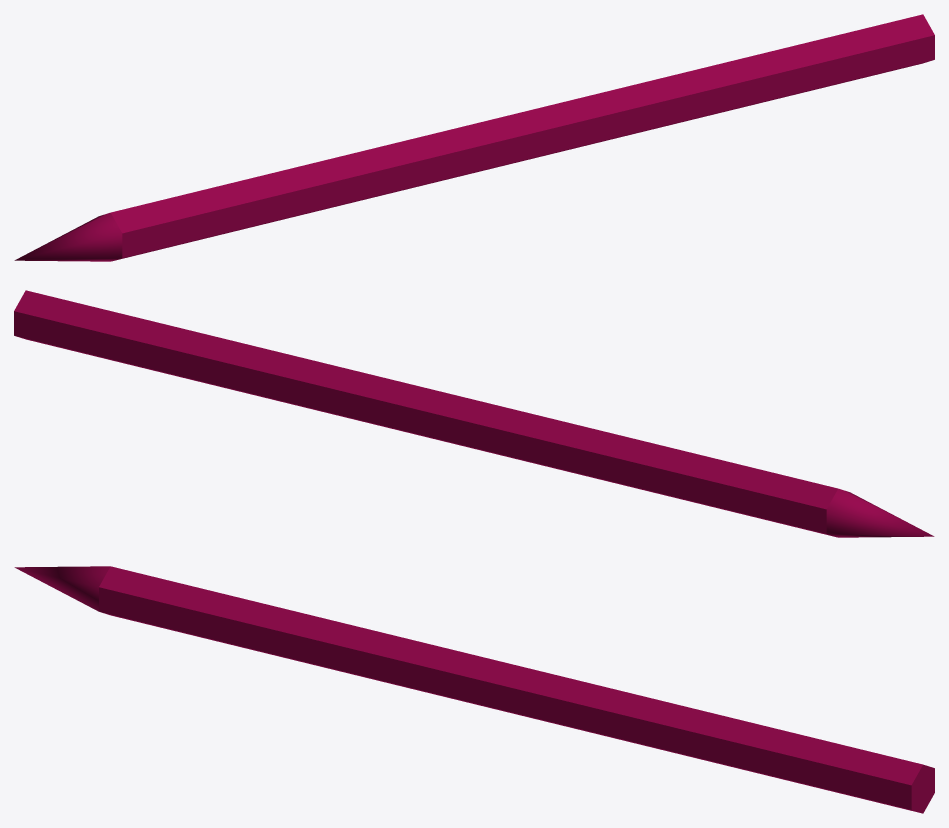
Rendered from Pen_05.fbx.
3 views of the same model, one above another, from view 1: azimuth 30°, elevation 25°; view 2: azimuth 150°, elevation 25°; view 3: azimuth 330°, elevation 25° (orthographic).
Parts seen in each view (by area): view 1: Pen_05; view 2: Pen_05; view 3: Pen_05.
Part boxes in pixels (x1=…): Pen_05: x1=14, y1=14, x2=934, y2=261; Pen_05: x1=14, y1=290, x2=934, y2=537; Pen_05: x1=14, y1=566, x2=934, y2=813.
Bounding box in the file's own units: 114 × 5.88 × 5.09.
